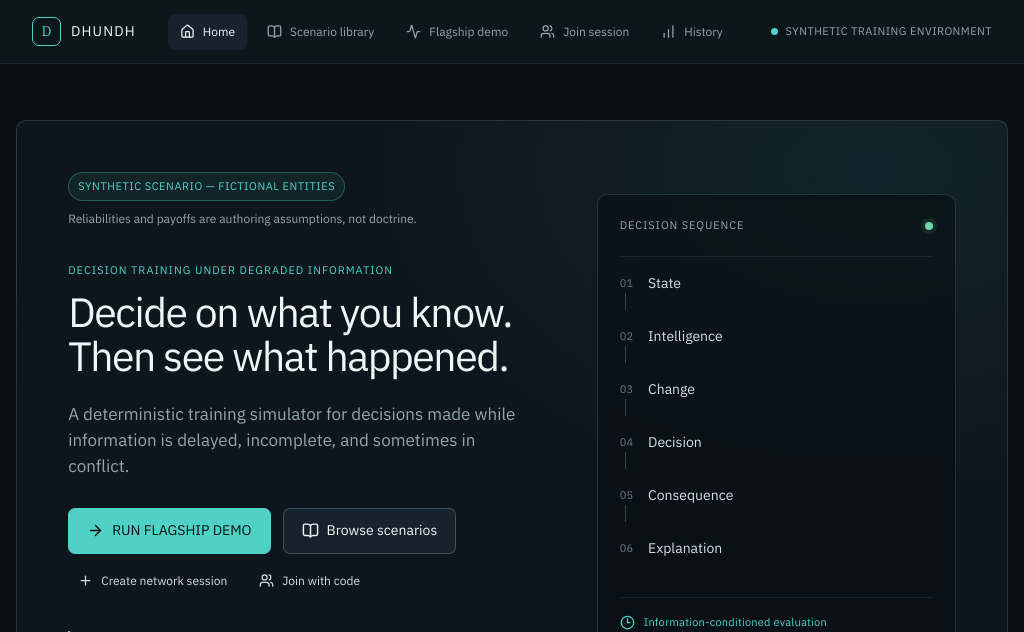
Test: local trainee journey › launches the deterministic demo and presenter in one action from Home
Click the button with test id "run-flagship-demo": (169, 531) 68,508 -> 270,554
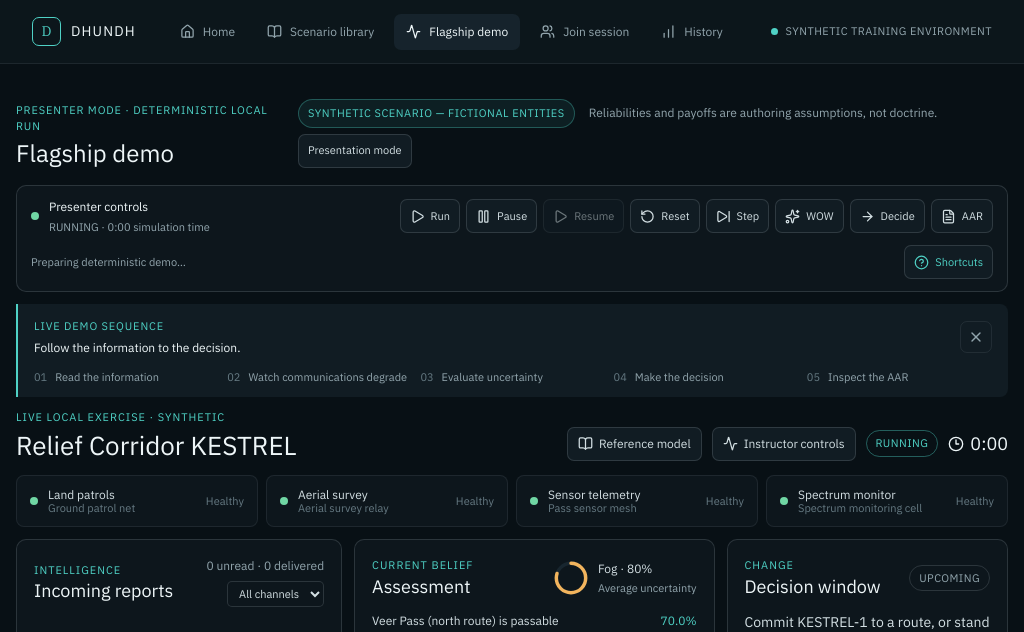
Check: the element with test id "demo-presenter-controls" is shown, box 16,184 -> 1008,292
Check: the element with test id "demo-guide" is shown, box 16,304 -> 1008,397
Check: the text "Live local exercise · synthetic" is shown once, box 16,410 -> 225,424
Click the button named "Dismiss presenter guide": (976, 337) 960,321 -> 992,353
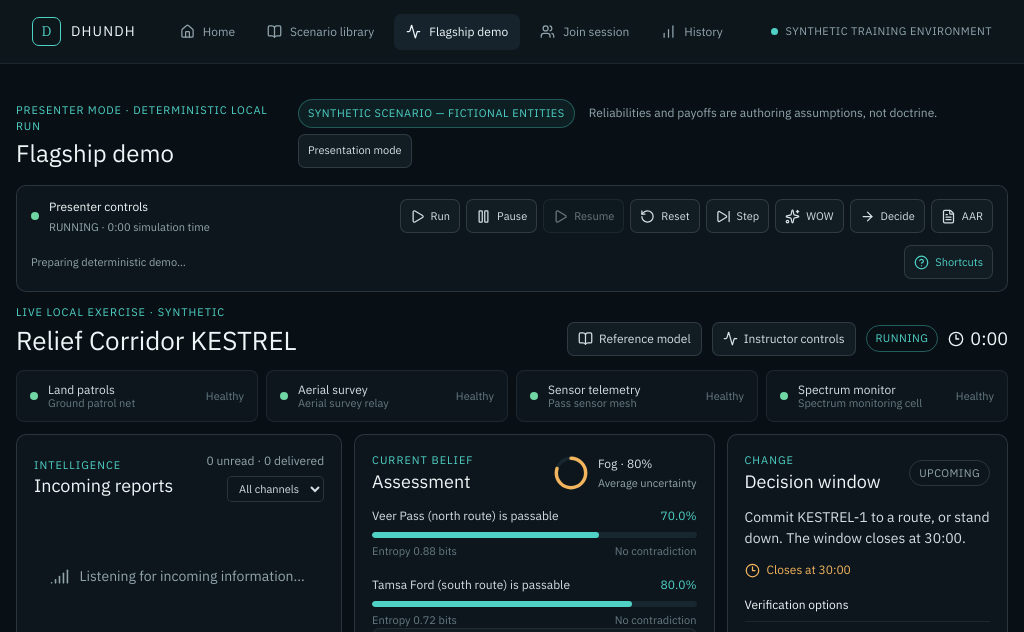
Check: the element with test id "demo-guide" is gone
Click the button with test id "demo-skip-wow": (809, 216) 775,199 -> 844,233
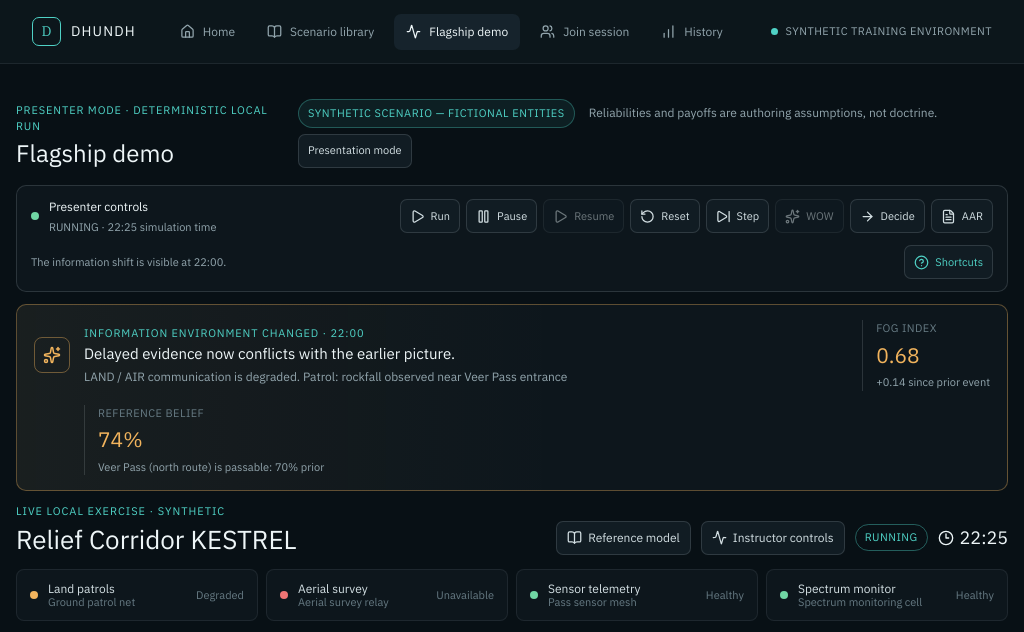
Check: the element with test id "demo-wow" is shown, box 16,304 -> 1008,491
Check: the text "+0.14 since prior event" is shown, box 876,374 -> 990,390
